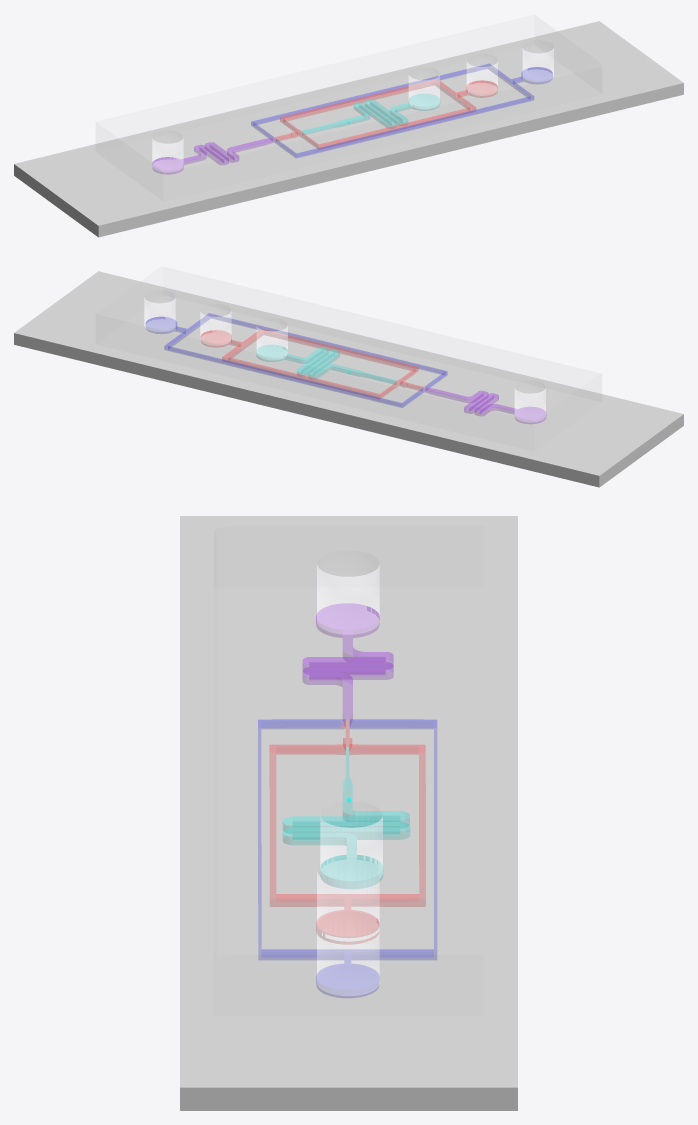
The picture shows the model from 3 angles, top to bottom: view 1: azimuth 30°, elevation 25°; view 2: azimuth 150°, elevation 25°; view 3: azimuth 270°, elevation 25°; orthographic projection. The views are drawn at different scales.
Parts seen in each view (by area): view 1: Cube.001, ChipDesign v2, Cube; view 2: Cube.001, ChipDesign v2, Cube; view 3: Cube.001, ChipDesign v2, Cube.
Boxes of the visible parts, left/top/right/bottom form: Cube.001: left=14, top=21, right=683, bottom=237; ChipDesign v2: left=152, top=63, right=552, bottom=174; Cube: left=152, top=48, right=553, bottom=171; Cube.001: left=14, top=271, right=683, bottom=487; ChipDesign v2: left=146, top=313, right=545, bottom=423; Cube: left=144, top=298, right=545, bottom=422; Cube.001: left=180, top=516, right=517, bottom=1110; ChipDesign v2: left=258, top=604, right=436, bottom=997; Cube: left=317, top=564, right=382, bottom=995.
Bounding box in the file's own units: 20 × 1.38 × 5.
